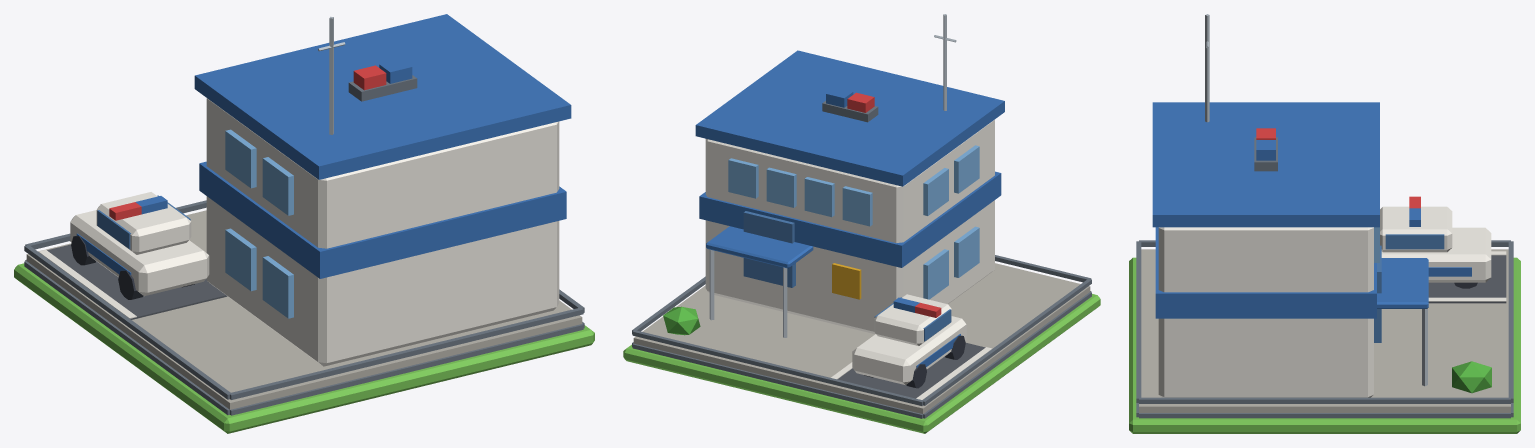
The model's file is policia.glb.
3 views of the same model, side by side, from view 1: azimuth 30°, elevation 25°; view 2: azimuth 150°, elevation 25°; view 3: azimuth 270°, elevation 25° (orthographic). The views are drawn at different scales.
Parts seen in each view (by area): view 1: corpo; view 2: corpo; view 3: corpo.
Part boxes in pixels (x1,y1,x2,y2): corpo: (14,14,594,433); corpo: (623,14,1100,433); corpo: (1129,14,1520,433).
Bounding box in the file's own units: 2 × 1.81 × 2.
